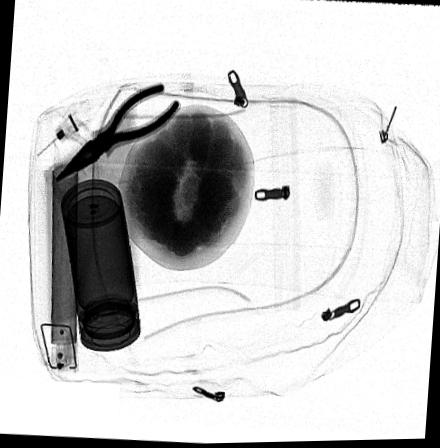Pliers: (53, 82, 183, 184)
